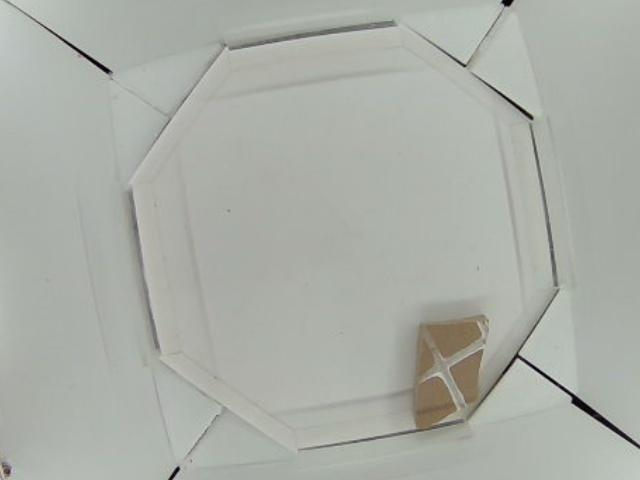China: (416, 317, 486, 430)
